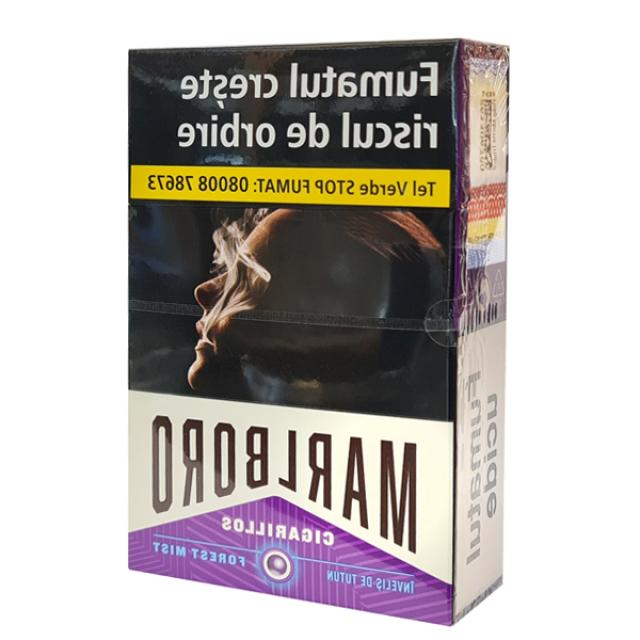marlboro: (126, 43, 507, 630)
